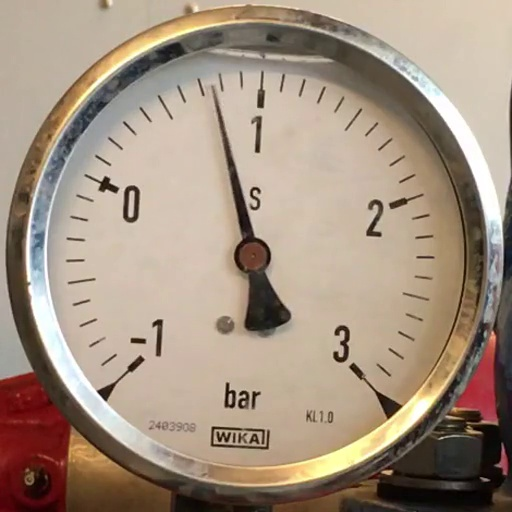base: (234, 236, 272, 274)
circle_plate: (48, 56, 466, 466)
maximum: (349, 362, 367, 381)
minimum: (127, 355, 145, 373)
number: (128, 316, 166, 358), (120, 182, 142, 226), (363, 197, 385, 239), (331, 324, 351, 364), (248, 112, 264, 156)
tip: (208, 82, 216, 90)
